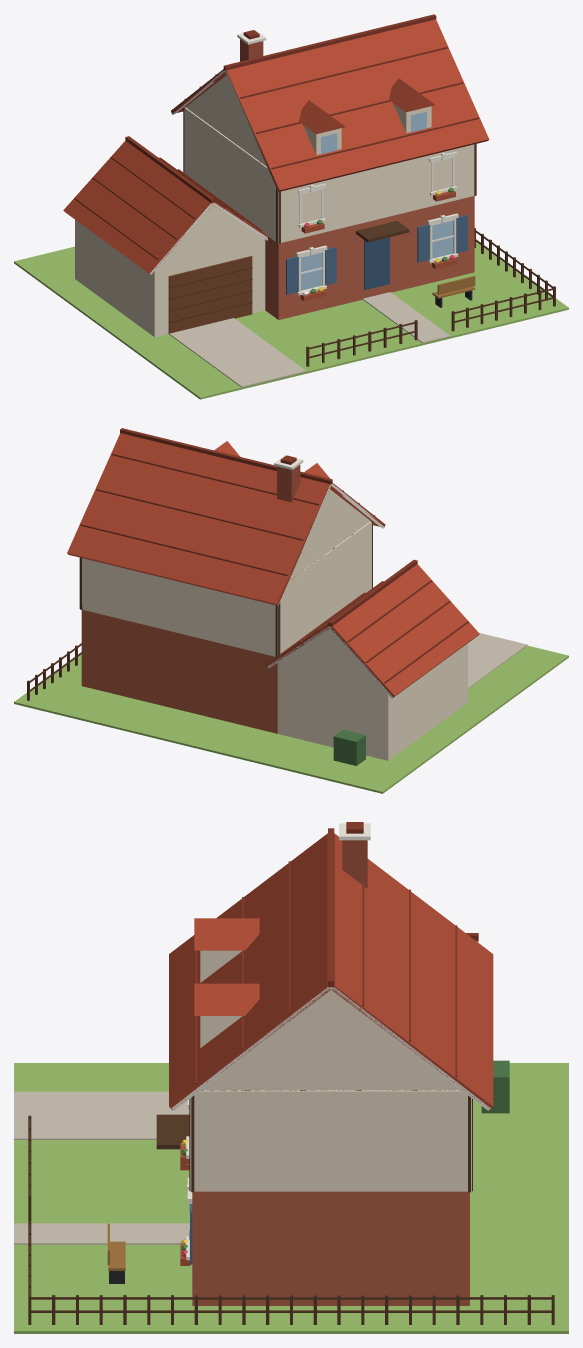
The model's file is Konut_konak_bahceli_Hafif.fbx.
3 views of the same model, one above another, from view 1: azimuth 30°, elevation 25°; view 2: azimuth 150°, elevation 25°; view 3: azimuth 270°, elevation 25° (orthographic). The views are drawn at different scales.
Visible parts, largest first — view 1: Konut_konak_bahceli_Hafif; view 2: Konut_konak_bahceli_Hafif; view 3: Konut_konak_bahceli_Hafif.
Part boxes in pixels (x1,y1,x2,y2): Konut_konak_bahceli_Hafif: (14,14,568,399); Konut_konak_bahceli_Hafif: (14,428,568,793); Konut_konak_bahceli_Hafif: (14,822,568,1333).
Bounding box in the file's own units: 16 × 10.04 × 14.
